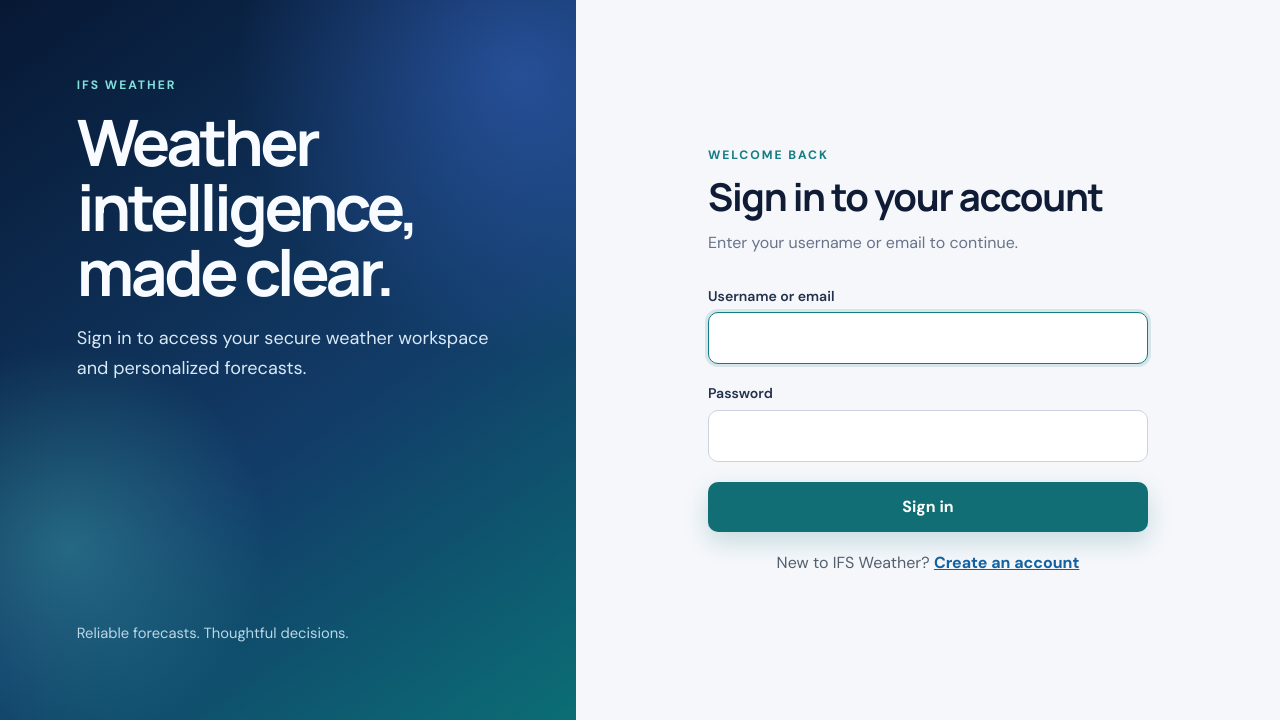
AdminUsersPage › confirms a status change, prevents duplicates, and installs returned detail
Type "test.admin" into the field labelled "Username or email" at (928, 338), box [708,312,1148,364]
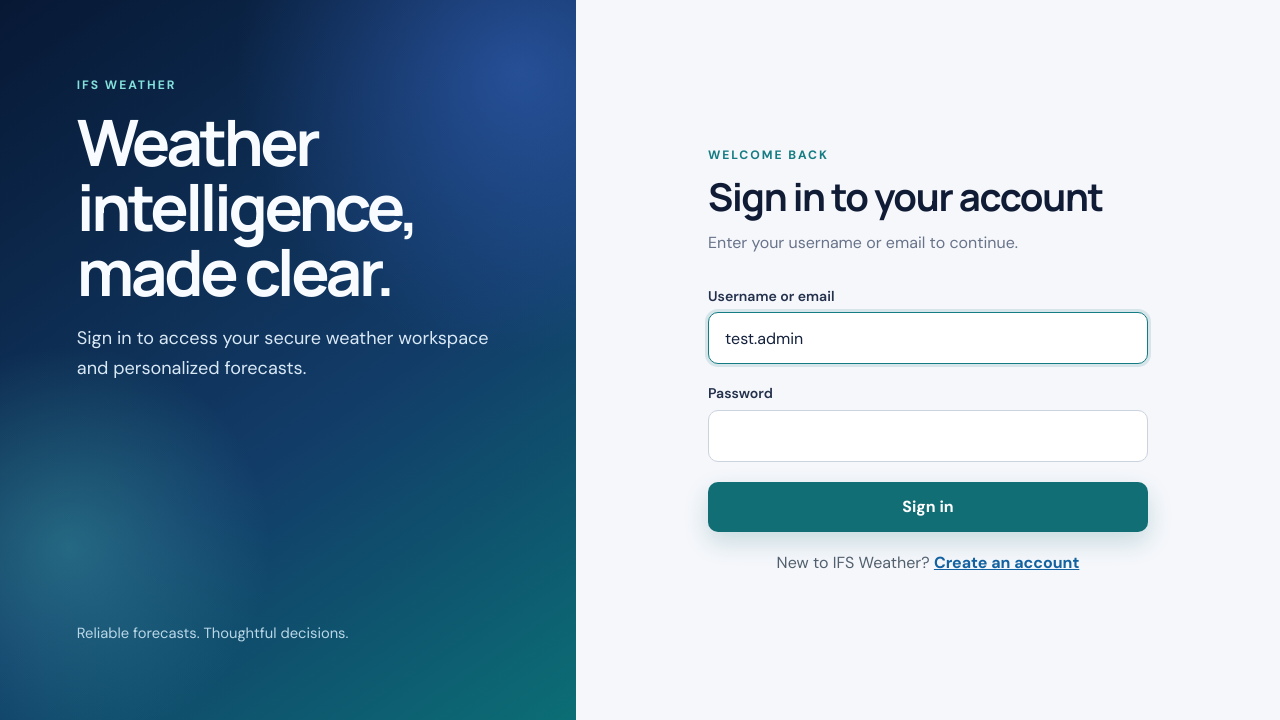
Type "TestPass1" into the password field labelled "Password" at (928, 436), box [708,410,1148,462]
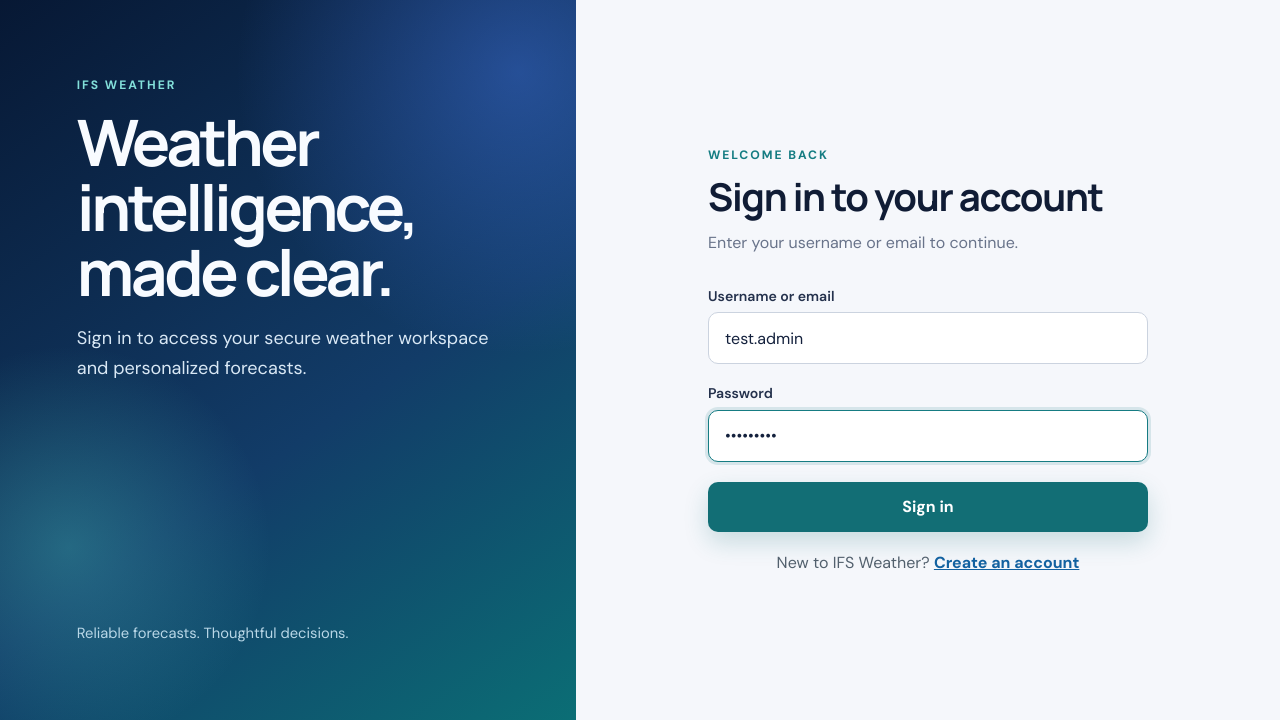
Click the button "Sign in" at (928, 507), box [708,482,1148,532]
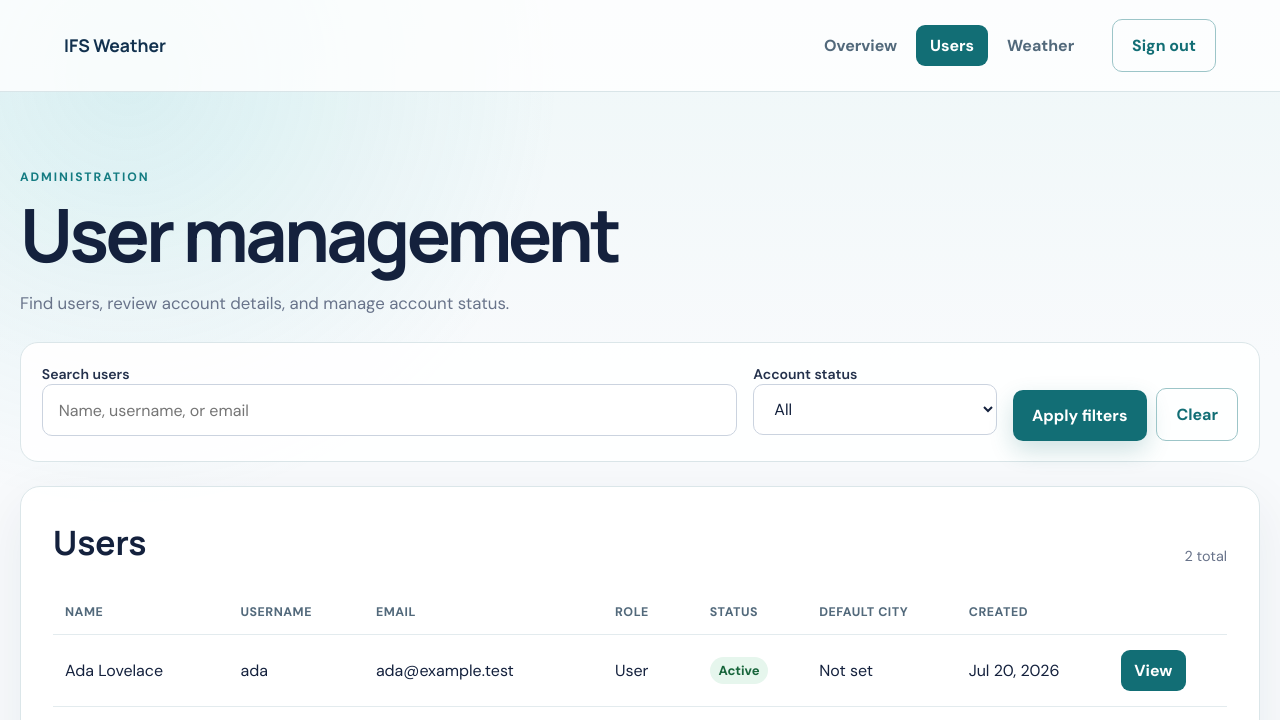
Expected: the heading "User management" is shown, [20,184,618,284]
Click the button with aria-label "View details for Ada Lovelace" at (1153, 670), box [1121,650,1186,691]
(page scrolled)
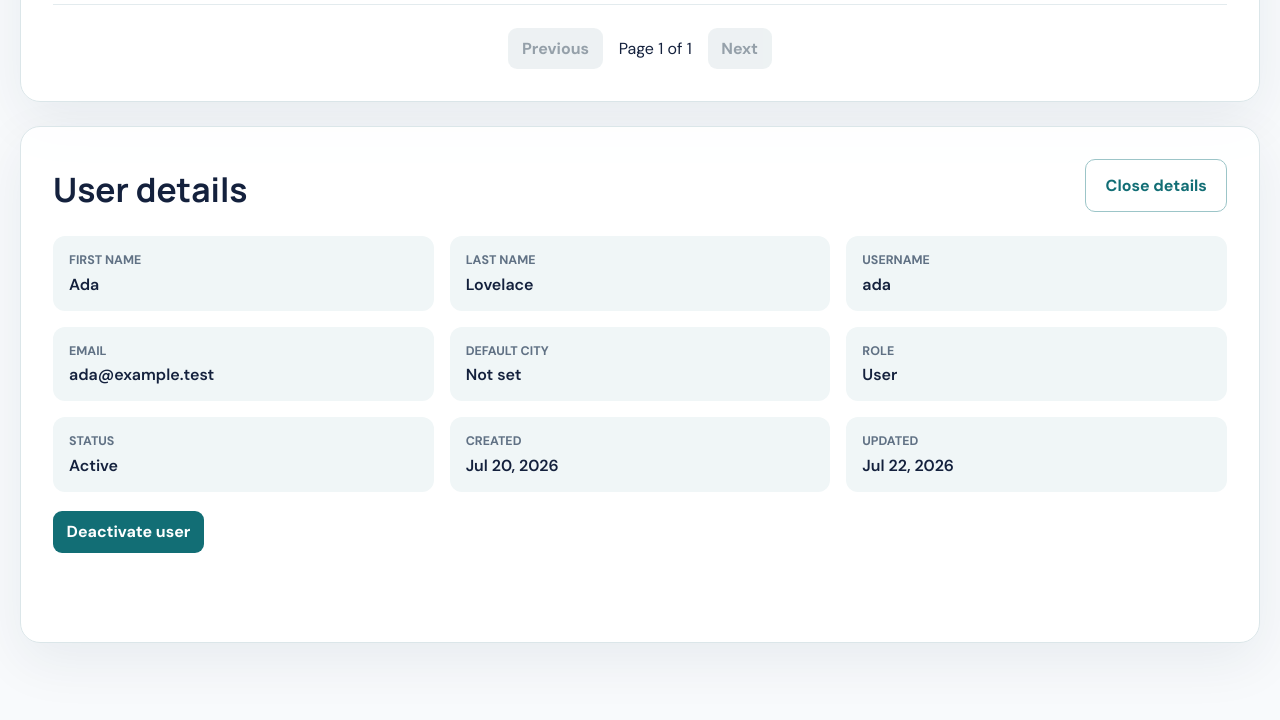
Expected: the button "Deactivate user" is shown
Click the button "Deactivate user" at (128, 532), box [53,511,204,553]
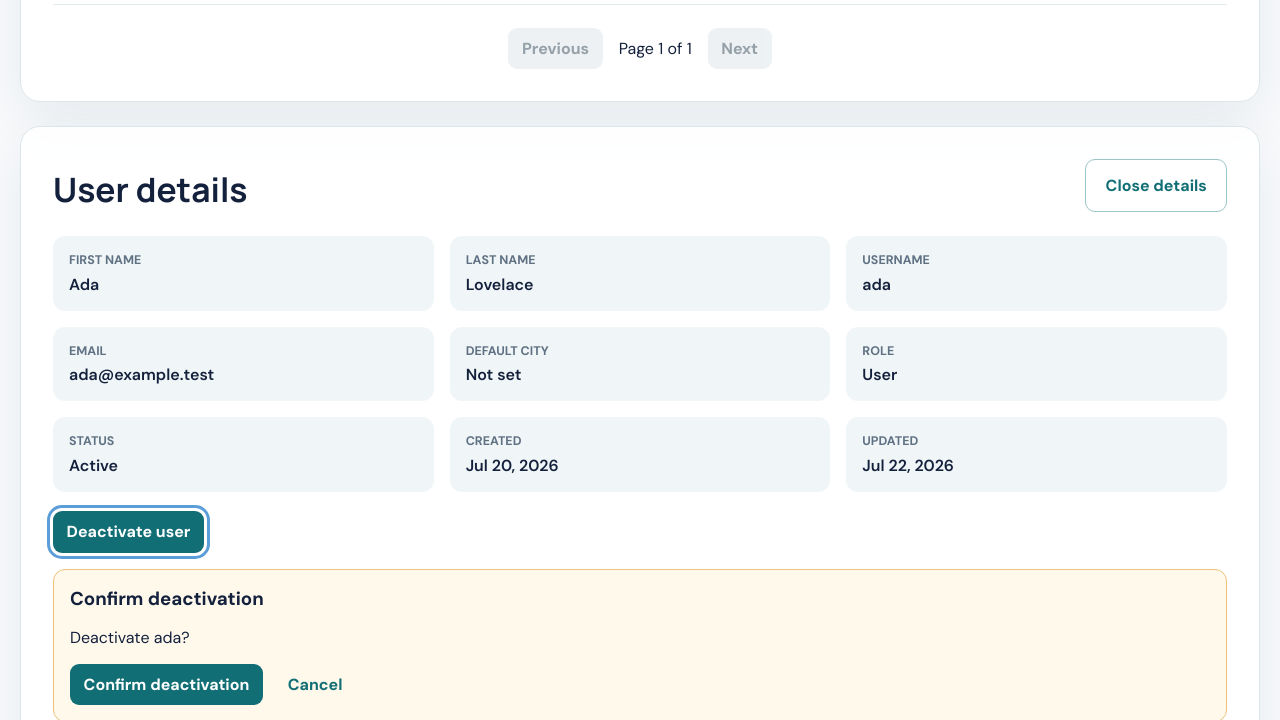
Expected: the heading "Confirm deactivation" is shown, [70,586,264,611]
Double-click the button "Confirm deactivation" at (166, 685), box [70,664,263,706]
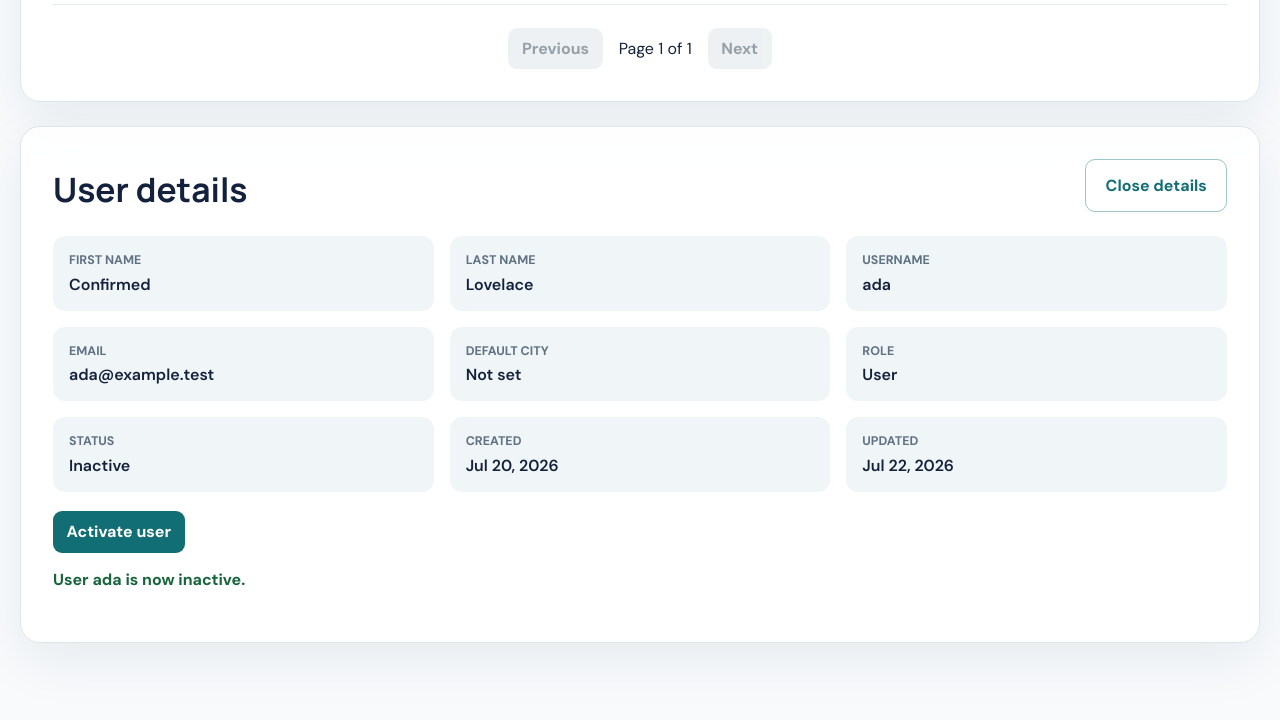
Expected: the button "Activate user" is shown, [53,511,185,553]
Expected: the text "User ada is now inactive." is shown, [53,569,245,590]
Expected: the text "Confirmed" is shown, [69,274,151,294]
